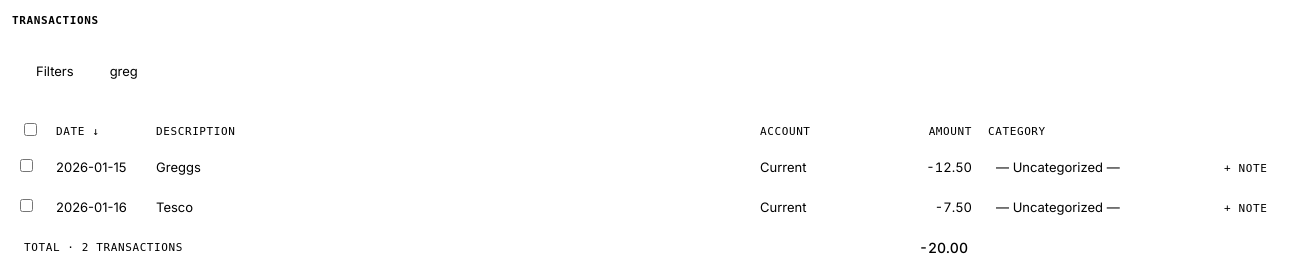
Scenario: ledger controls card › a search in progress survives a selection and comes back intact
Expected: the field with placeholder "Search description…" holds "greg", [98, 55, 1280, 87]
Step 1. Click the checkbox named "Select Greggs" → (26, 166), box [20, 159, 33, 172]
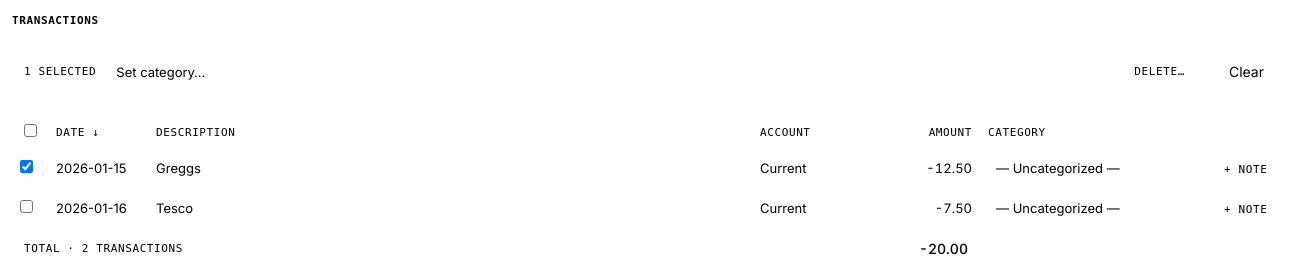
Step 2. Click the button "Clear" → (1246, 72), box [1213, 55, 1280, 88]
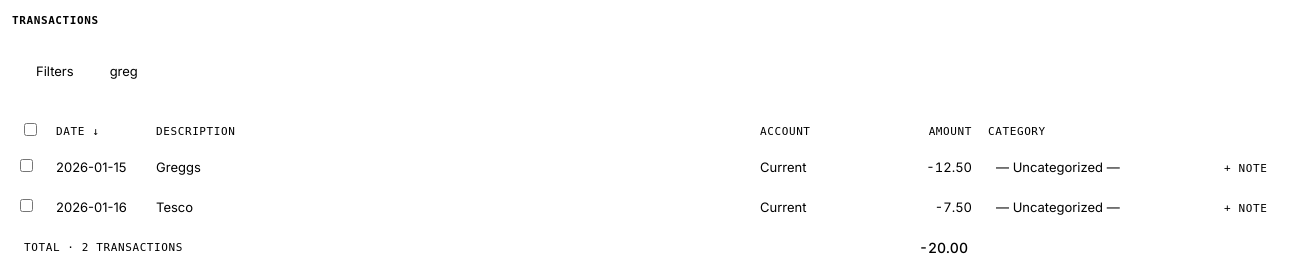
Expected: the field with placeholder "Search description…" holds "greg", [98, 55, 1280, 87]
